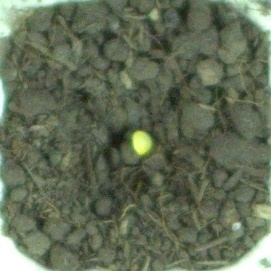chilli seed: (130, 128, 156, 156)
